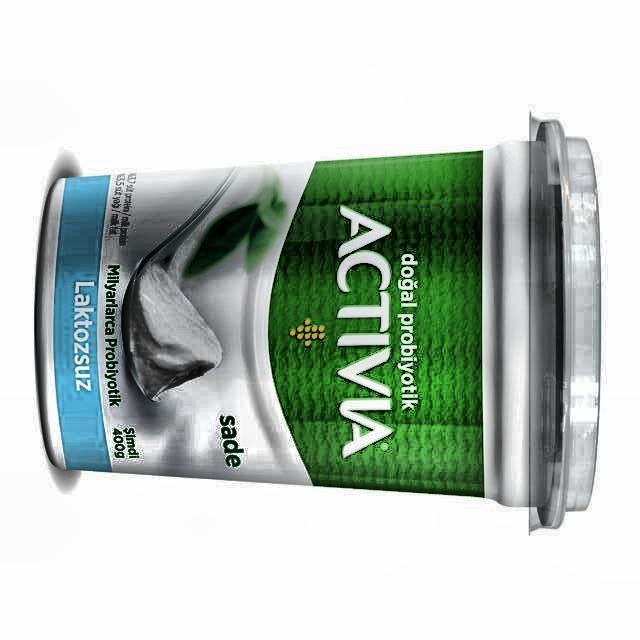plastic: (36, 117, 600, 529)
